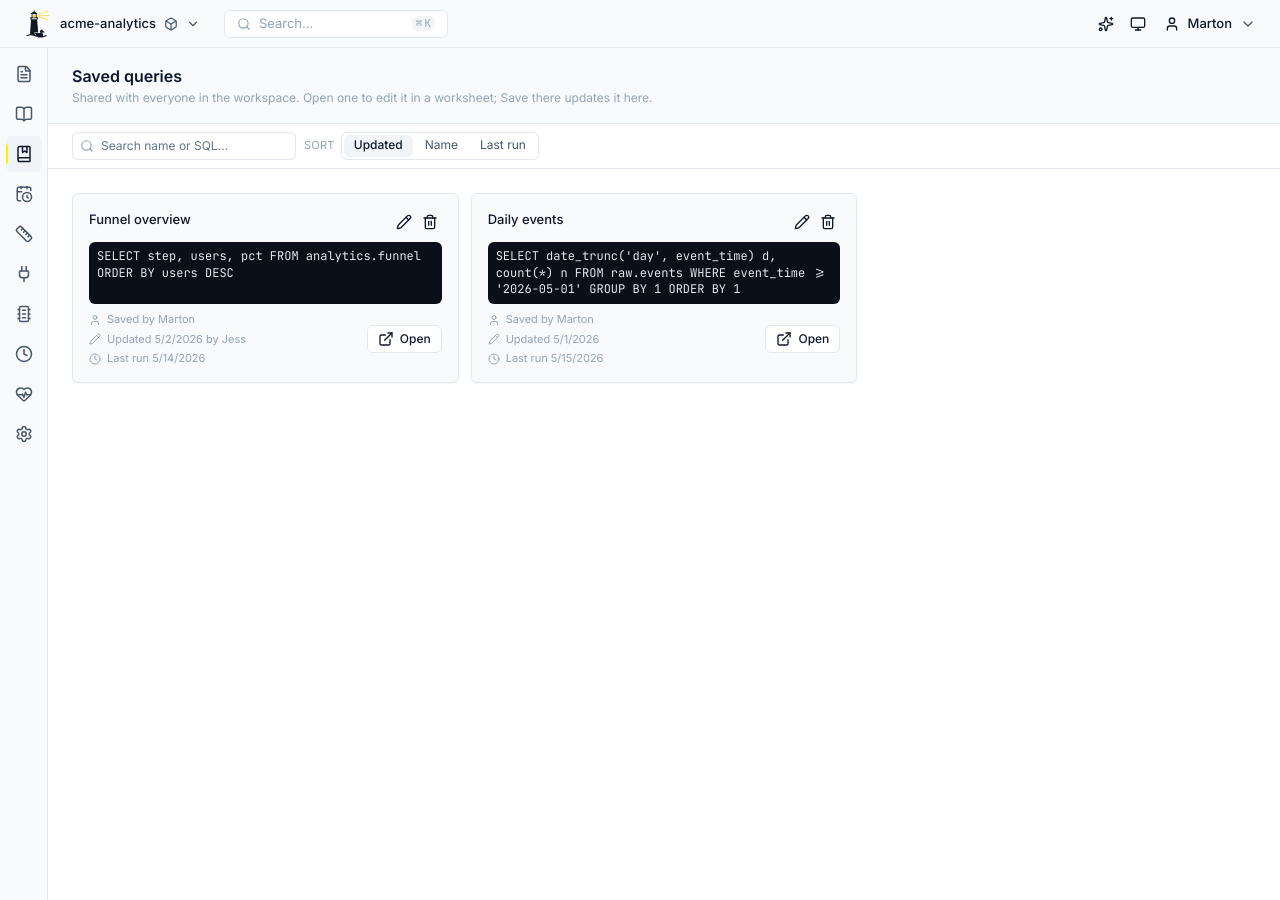
Test: SavedQueriesPage › refuses to rename onto a name already in use
The width and height of the screenshot is (1280, 900).
Expected: the text "Daily events" is shown, 488,210 -> 563,229
Click the button named "Rename Daily events" at [802, 222], box 790,210 -> 814,234
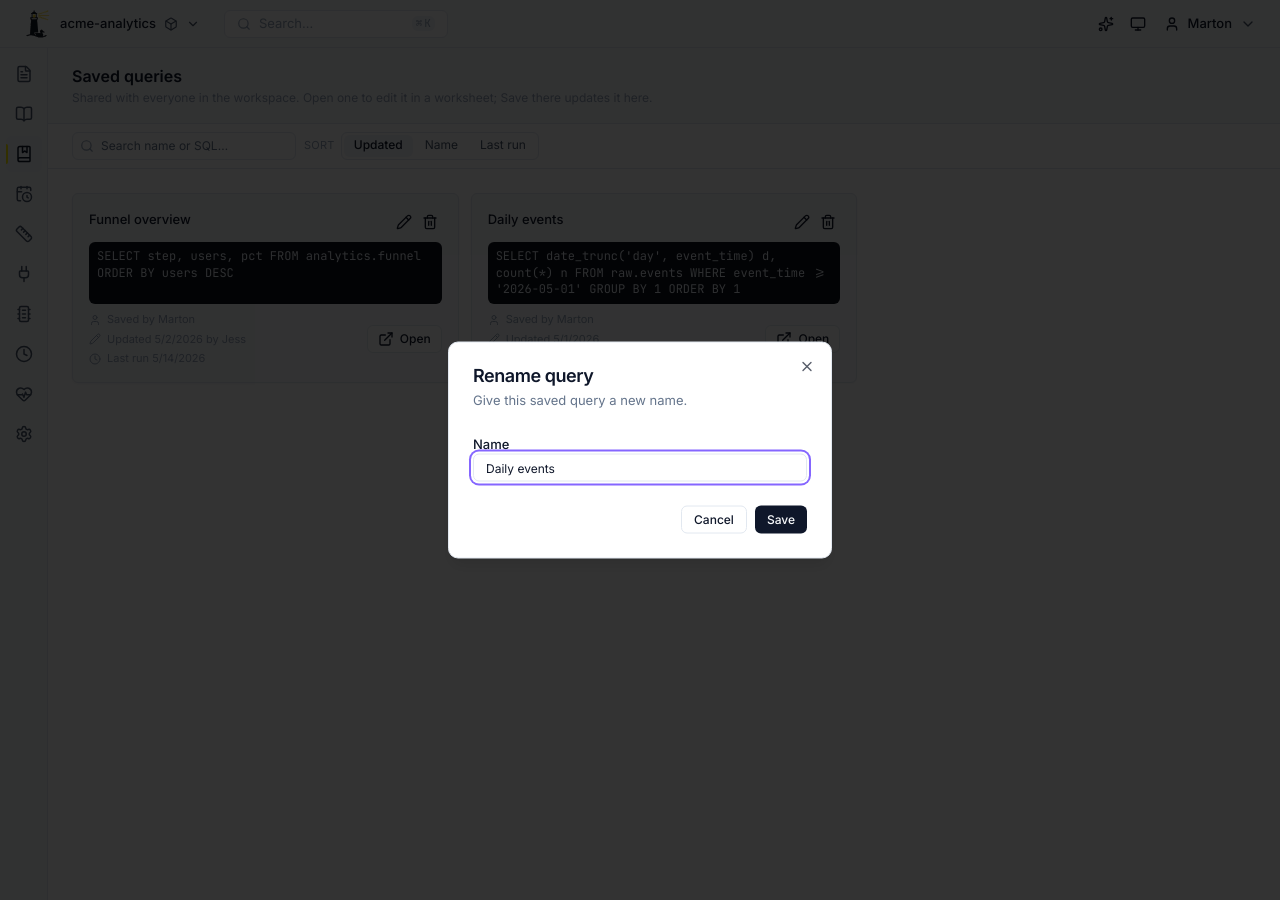
Replace the text in the field labelled "Name" with "funnel OVERVIEW" at [640, 468], box 473,454 -> 807,482
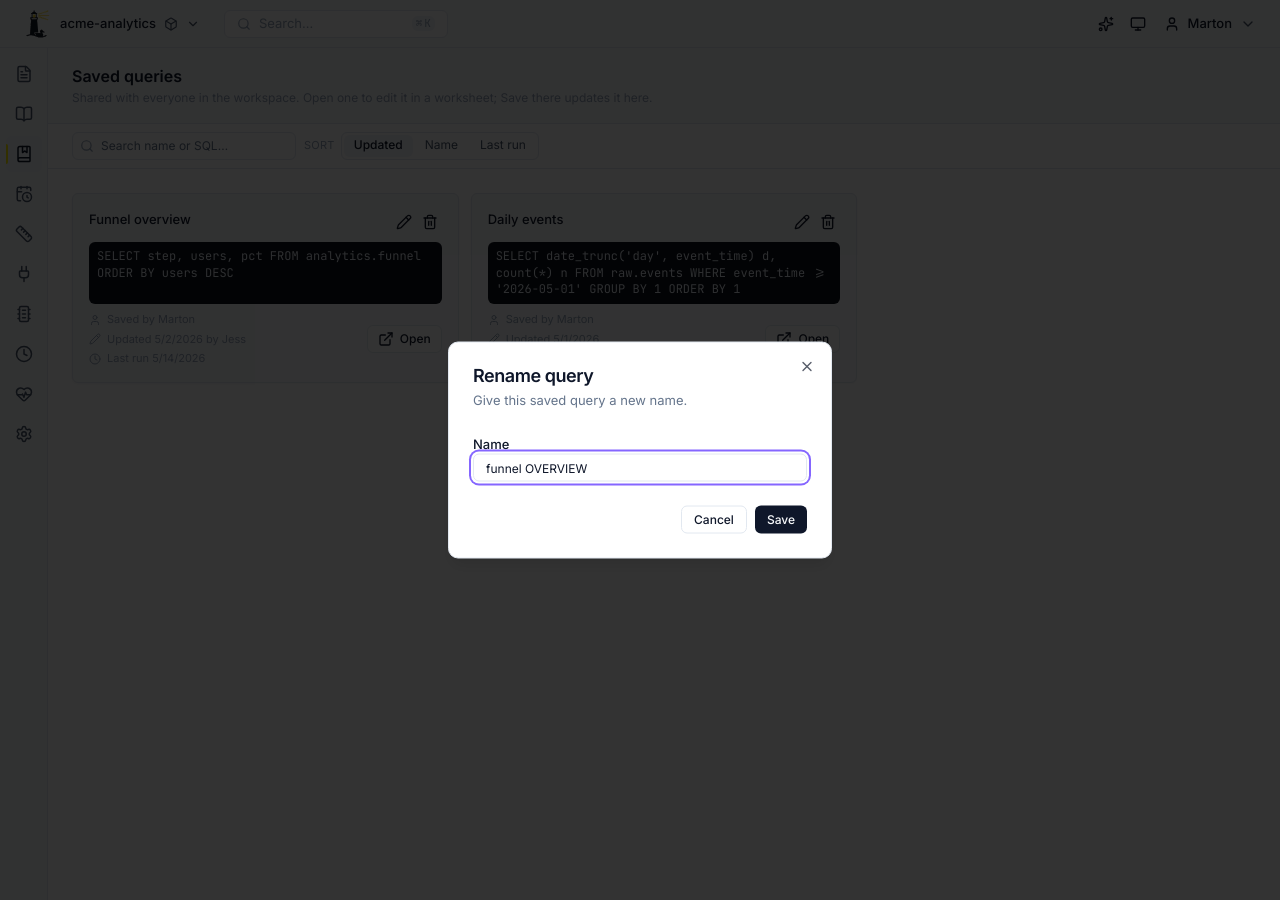
Click the button "Save" at [781, 520], box 755,506 -> 807,534
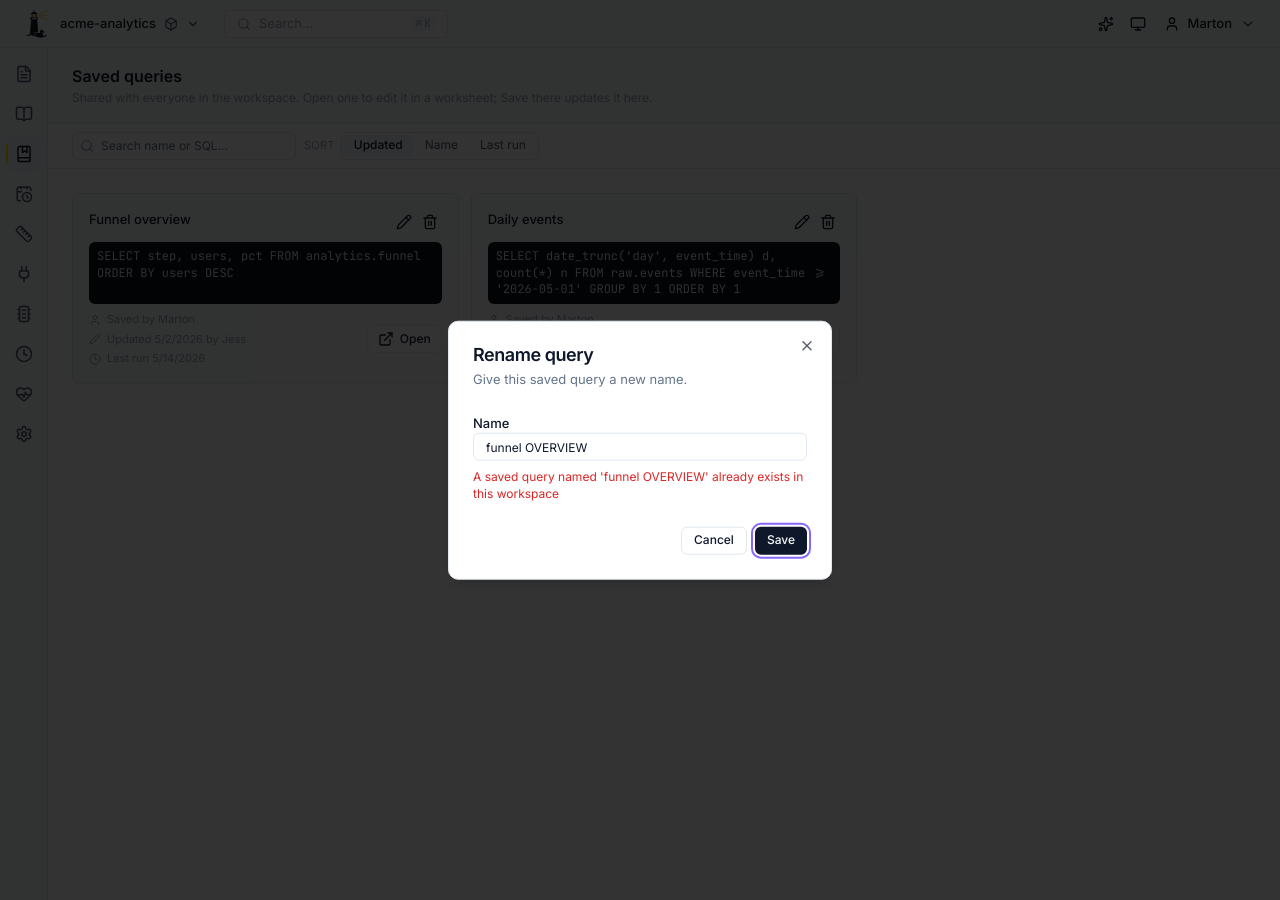
Expected: the dialog is shown, 448,321 -> 832,579
Expected: the message shows "already exists", 473,469 -> 803,500
